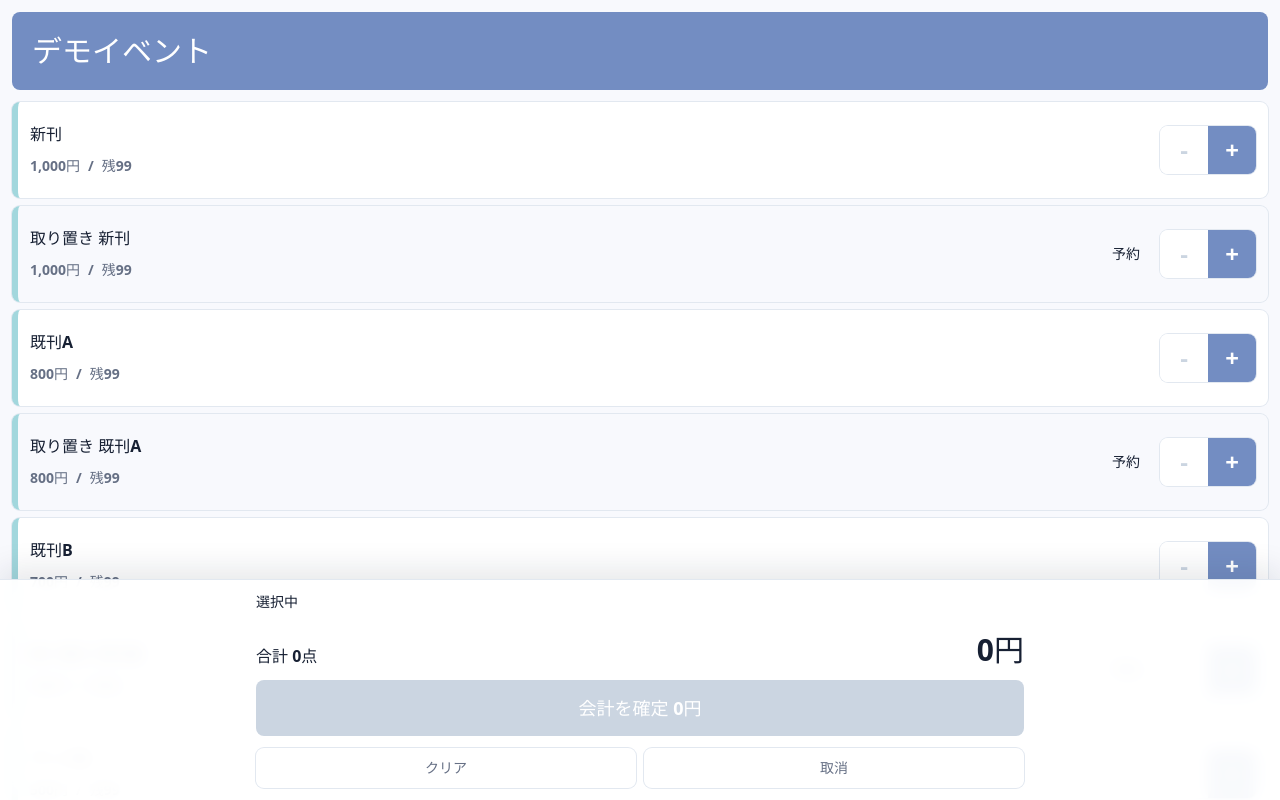
CheckoutPage › keeps selected details above total and confirm in the fixed bottom area
Click the button with aria-label "新刊を追加": (46,134) [30,114,1152,186]
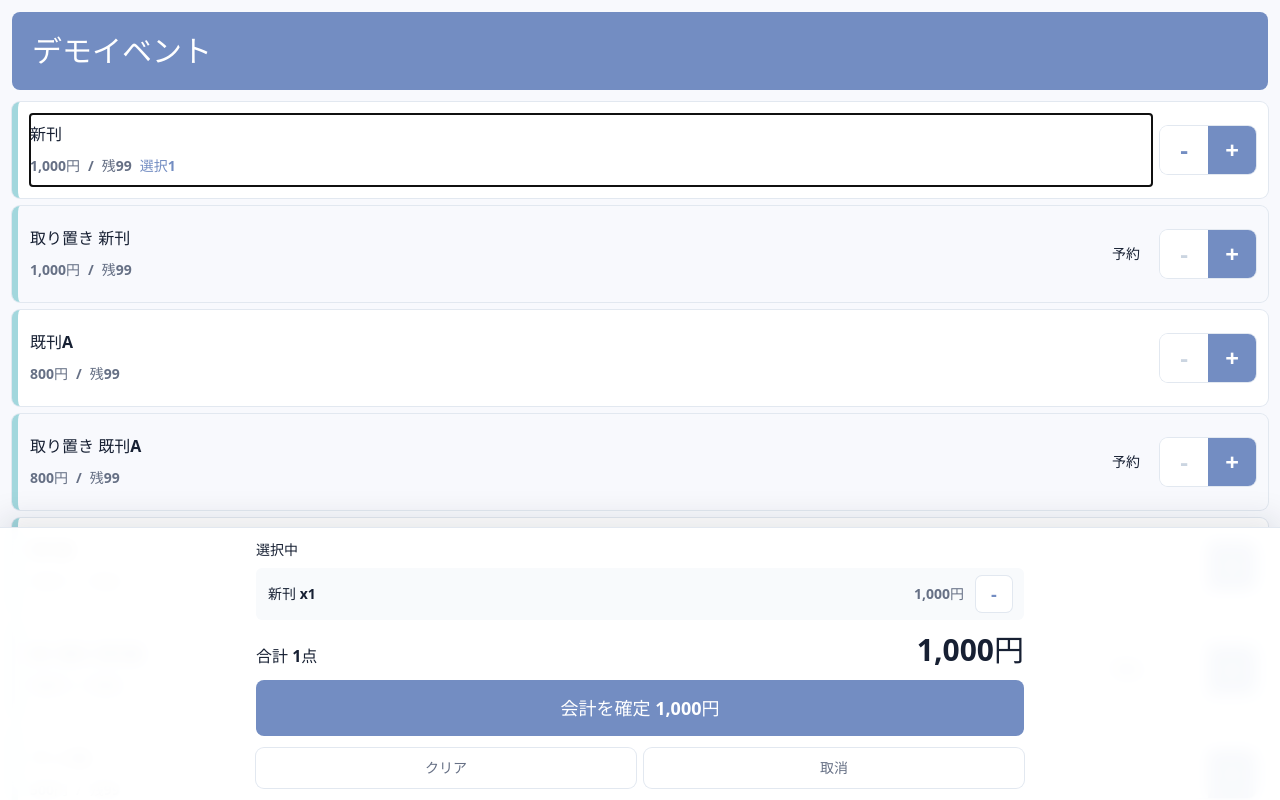
Expected: the element named "会計操作" shows "クリア", [256,748,636,788]
Result: the 3rd text "1,000円" is shown at [914,584,964,604]
Result: the element named "会計操作" reads "選択中 新刊 x1 1,000円 - 合計 1点 1,000円 会計を確定 1,000円 クリア 取消" at [0,527,1279,799]
